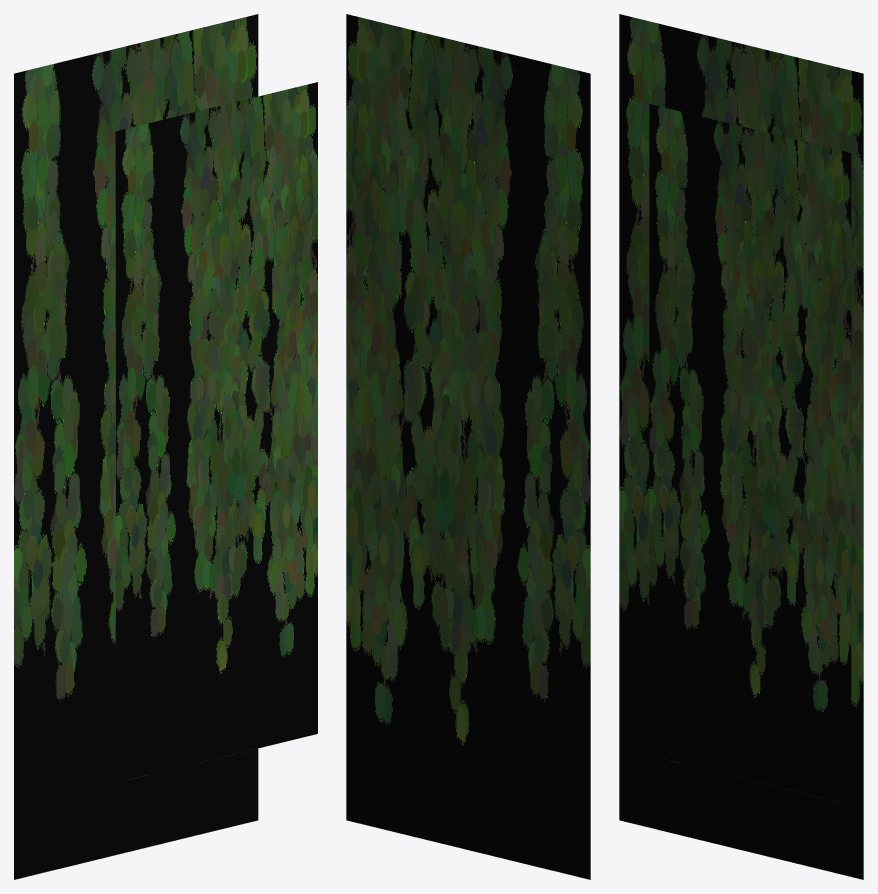
Rendered from Prop_Vine2_LOD2.gltf.
3 renders of one model, left to right at view 1: azimuth 30°, elevation 25°; view 2: azimuth 150°, elevation 25°; view 3: azimuth 330°, elevation 25°, orthographic.
Visible parts, largest first — view 1: Prop_Vine2_LOD2; view 2: Prop_Vine2_LOD2; view 3: Prop_Vine2_LOD2.
Part boxes in pixels (x1,y1,x2,y2): Prop_Vine2_LOD2: [14, 14, 317, 879]; Prop_Vine2_LOD2: [346, 14, 590, 879]; Prop_Vine2_LOD2: [619, 14, 863, 879].
Size of the model in its own units: 0.8272 by 2.38 by 0.1915.
Materials: 1 (1 with a texture image).
